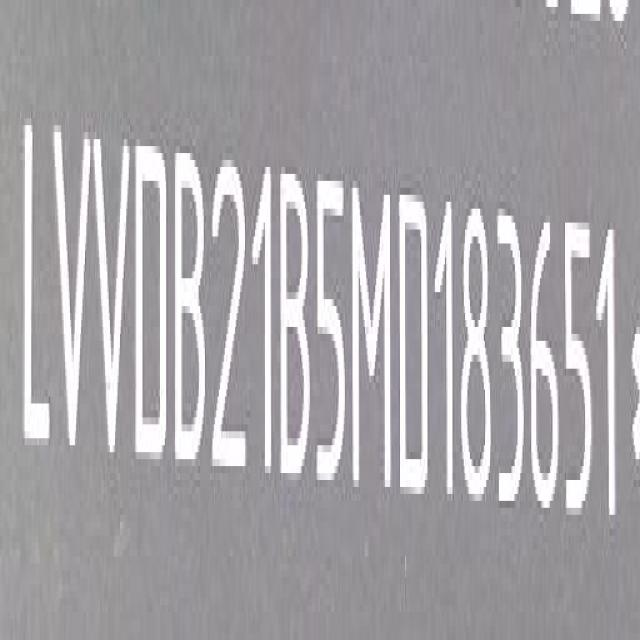1: (251, 158, 276, 486), (436, 198, 456, 507), (601, 224, 620, 531)
2: (211, 158, 250, 488)
3: (498, 212, 527, 513)
5: (317, 168, 348, 491), (564, 212, 594, 521)
6: (530, 204, 558, 515)
8: (458, 203, 491, 512)
B: (176, 151, 210, 478), (281, 164, 315, 490)
D: (134, 132, 169, 471), (397, 184, 431, 501)
L: (18, 108, 52, 466)
M: (353, 179, 395, 501)
V: (51, 114, 91, 472), (94, 123, 134, 472)
